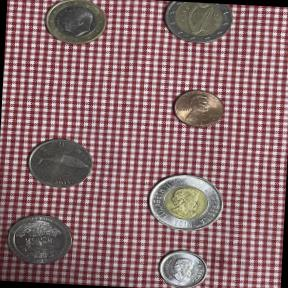coin: (142, 170, 233, 238), (20, 133, 102, 199), (0, 206, 79, 269), (36, 0, 116, 53), (159, 0, 240, 50), (168, 86, 230, 134), (152, 246, 211, 288)
